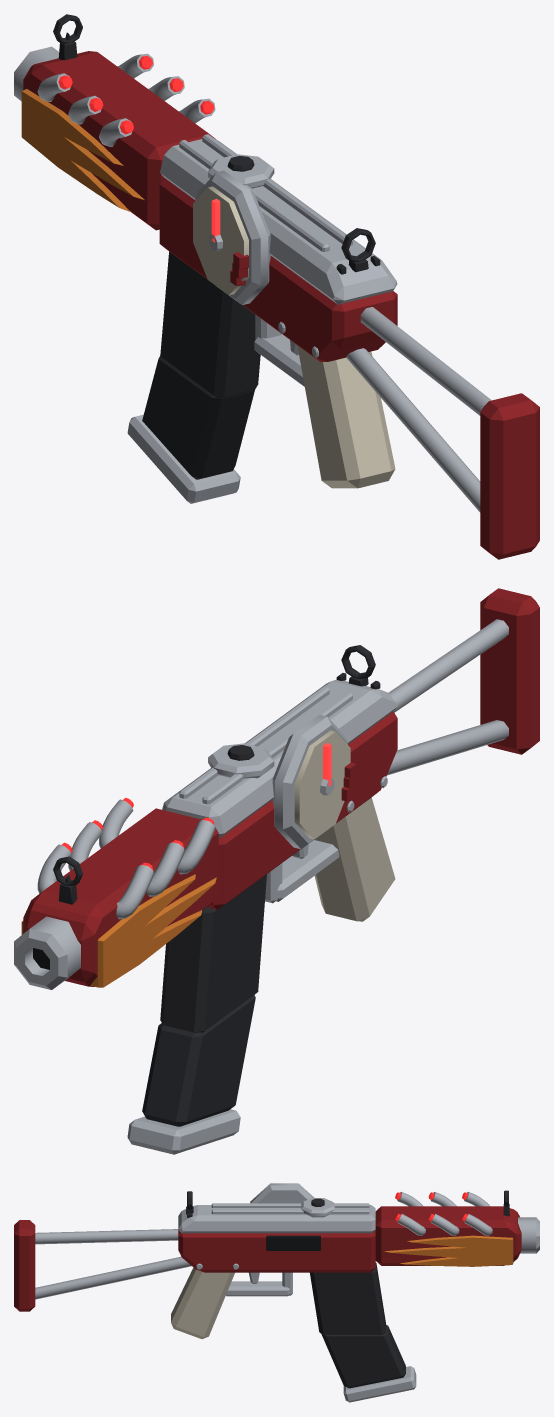
Rendered from w_redline@redline_hotrod.glb.
3 views of the same model, one above another, from view 1: azimuth 30°, elevation 25°; view 2: azimuth 150°, elevation 25°; view 3: azimuth 270°, elevation 25° (orthographic). The views are drawn at different scales.
Visible parts, largest first — view 1: mag_wzB, guard_wzA, cover_wzB, body_wzA, stock_wzA, grip_wzB, stock_wzB, flame_wzN, gauge_wzN, gauge_wzN.001, mag_wzN, header_wzB (+5 smaller); view 2: mag_wzB, guard_wzA, cover_wzB, stock_wzA, body_wzA, grip_wzB, flame_wzN, header_wzB, stock_wzB, gauge_wzN.001, gauge_wzN, barrel_wzB (+4 smaller); view 3: mag_wzB, body_wzA, cover_wzB, guard_wzA, stock_wzB, flame_wzN, grip_wzB, stock_wzA, header_wzB, guard_wzN, mag_wzN, gauge_wzN (+4 smaller).
Part boxes in pixels (box(x1,y1,x2,y2)): mag_wzB: box(142, 251, 260, 479); guard_wzA: box(23, 51, 215, 230); cover_wzB: box(160, 134, 397, 304); body_wzA: box(159, 178, 397, 361); stock_wzA: box(480, 393, 539, 559); grip_wzB: box(297, 345, 395, 488); stock_wzB: box(346, 307, 491, 512); flame_wzN: box(21, 89, 144, 211); gauge_wzN: box(195, 170, 318, 358); gauge_wzN.001: box(193, 186, 248, 295); mag_wzN: box(127, 414, 240, 503); header_wzB: box(37, 53, 215, 146); mag_wzB: box(142, 874, 266, 1126); guard_wzA: box(23, 808, 218, 986); cover_wzB: box(162, 679, 397, 838); stock_wzA: box(480, 588, 539, 754); body_wzA: box(207, 712, 397, 909); grip_wzB: box(314, 797, 395, 921); flame_wzN: box(21, 874, 216, 987); header_wzB: box(37, 799, 215, 919); stock_wzB: box(387, 619, 508, 775); gauge_wzN.001: box(294, 730, 350, 839); gauge_wzN: box(272, 714, 387, 849); barrel_wzB: box(14, 916, 80, 989); mag_wzB: box(310, 1262, 405, 1388); body_wzA: box(178, 1230, 375, 1272); cover_wzB: box(178, 1203, 375, 1233); guard_wzA: box(375, 1206, 521, 1265); stock_wzB: box(35, 1229, 191, 1299); flame_wzN: box(384, 1235, 513, 1266); grip_wzB: box(171, 1267, 234, 1338); stock_wzA: box(14, 1220, 35, 1311); header_wzB: box(397, 1192, 492, 1235); guard_wzN: box(226, 1272, 292, 1296); mag_wzN: box(343, 1366, 416, 1402); gauge_wzN: box(196, 1183, 314, 1269).
Bounding box in the file's own units: 0.1127 × 0.3739 × 0.865.
